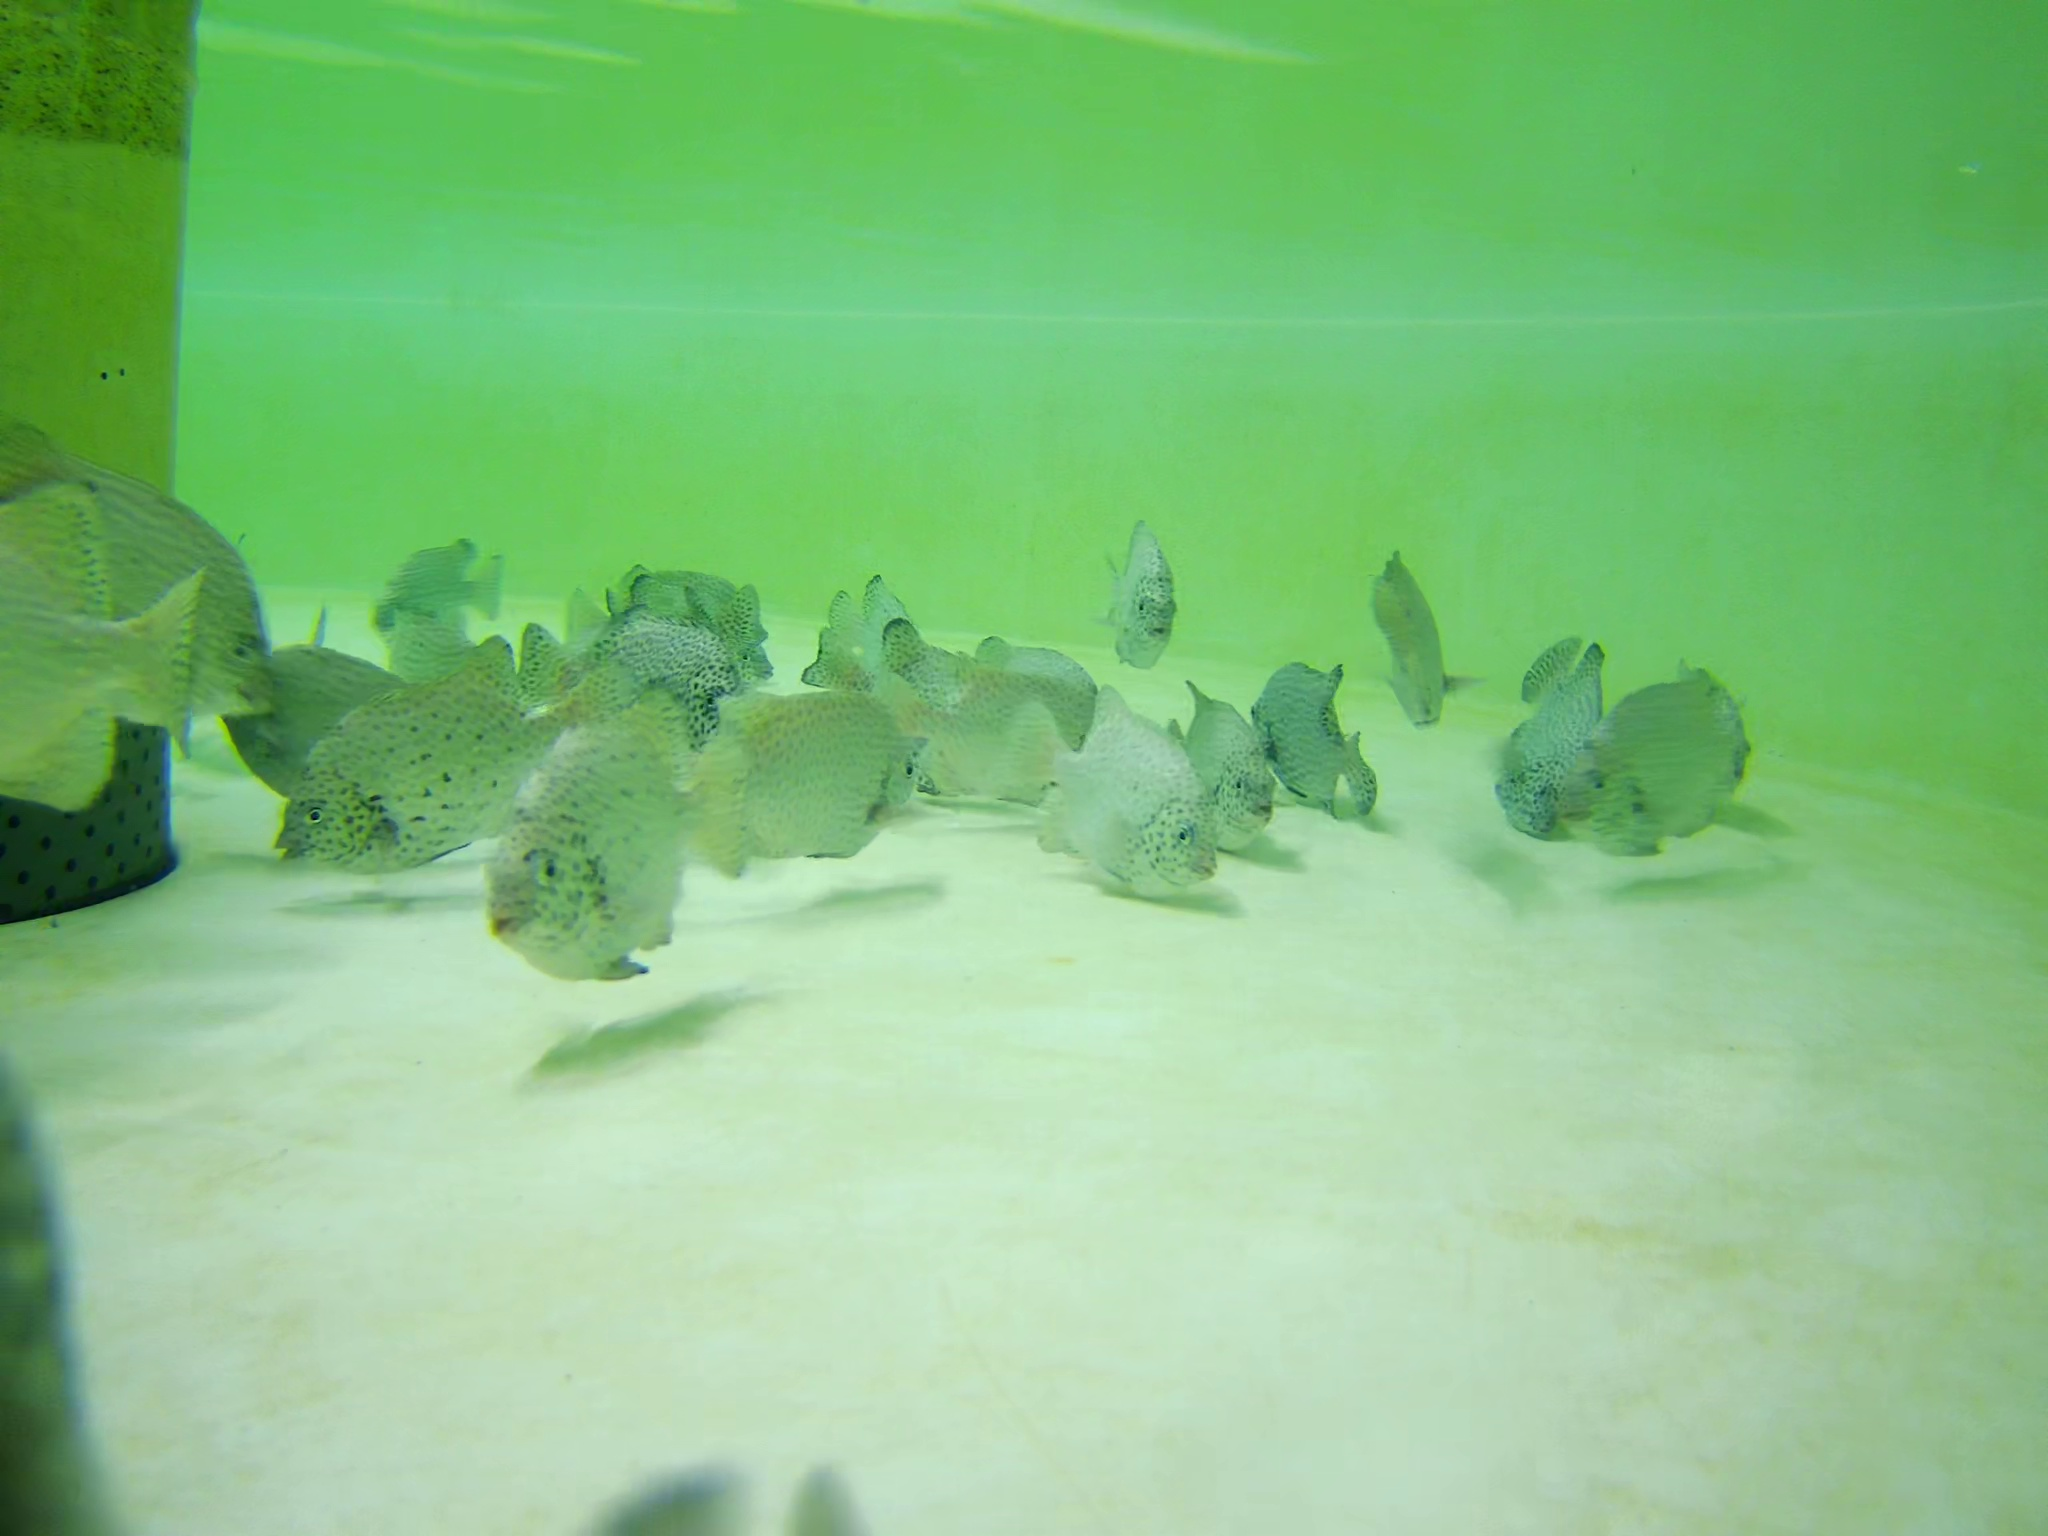fish: (485, 684, 764, 994), (23, 429, 284, 741), (2, 473, 197, 831), (271, 642, 577, 863), (650, 682, 937, 871), (1543, 662, 1792, 860), (214, 618, 442, 812), (805, 571, 984, 779), (1024, 692, 1213, 886), (882, 610, 1093, 781), (519, 621, 758, 734), (1500, 642, 1619, 845), (1234, 653, 1371, 828), (1361, 565, 1480, 731), (1163, 670, 1272, 837), (597, 566, 785, 644), (1100, 510, 1190, 662), (363, 537, 497, 631), (1519, 637, 1582, 708)
